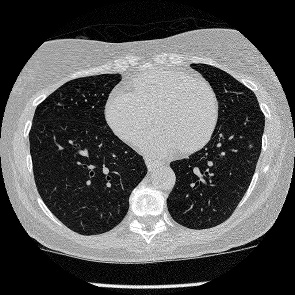PN: (248, 144, 252, 148)
